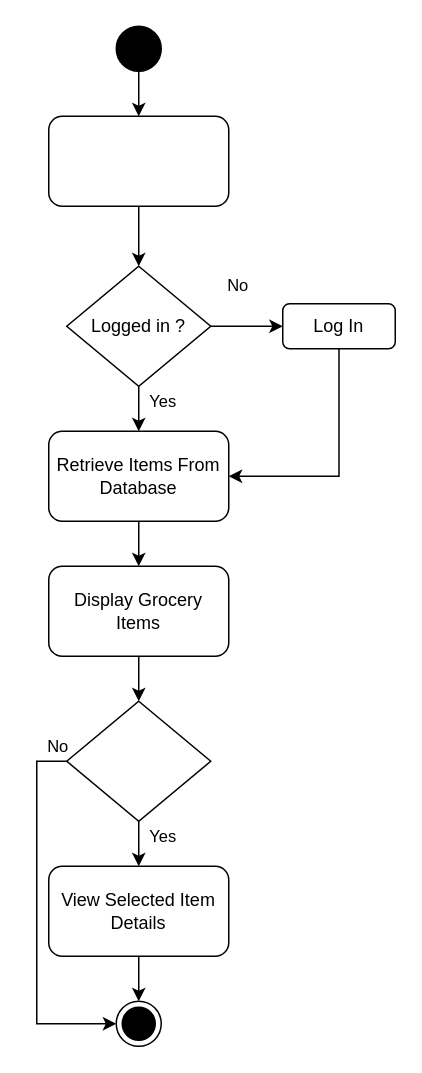
Image size: 422x1073. Some labels were removed from this diagram. Here are the shapes that lost their labels. From the top down, the box of each, then its label:
(47, 115, 229, 206): Open Browse Item Page
(65, 700, 211, 821): Select an Item?
